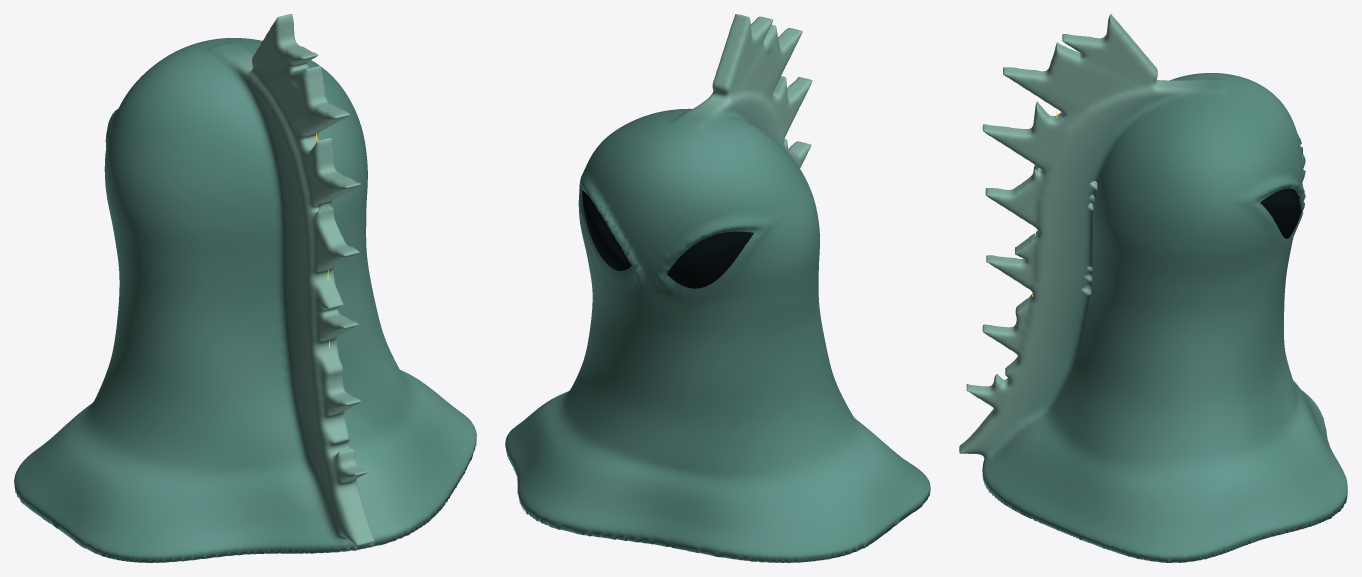
File: specimen.glb
The picture shows the model from 3 angles, left to right: view 1: azimuth 30°, elevation 25°; view 2: azimuth 150°, elevation 25°; view 3: azimuth 270°, elevation 25°; orthographic projection. The views are drawn at different scales.
Parts seen in each view (by area): view 1: Specimen-Body; view 2: Specimen-Body, Specimen-Eye-Left, Specimen-Eye-Right; view 3: Specimen-Body, Specimen-Eye-Right.
Part boxes in pixels (x1,y1,x2,y2): Specimen-Body: [14, 14, 476, 562]; Specimen-Body: [505, 14, 930, 562]; Specimen-Eye-Left: [667, 231, 753, 288]; Specimen-Eye-Right: [582, 190, 631, 270]; Specimen-Body: [959, 14, 1347, 562]; Specimen-Eye-Right: [1260, 188, 1301, 238].
Bounding box in the file's own units: 1.88 × 2.09 × 1.64.
